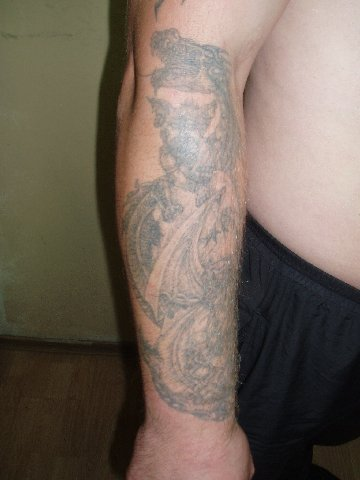tatu6_drakon: (112, 20, 276, 429)
